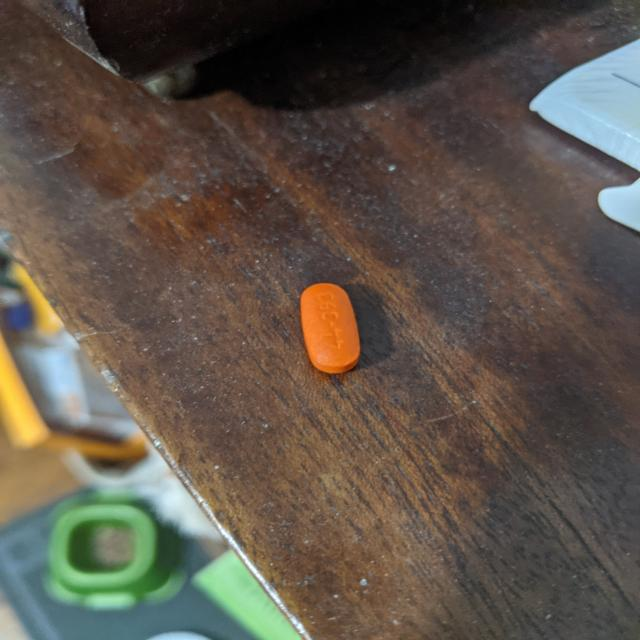non-organic waste: (300, 282, 362, 374)
